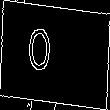O_S: (43, 28, 67, 82)
